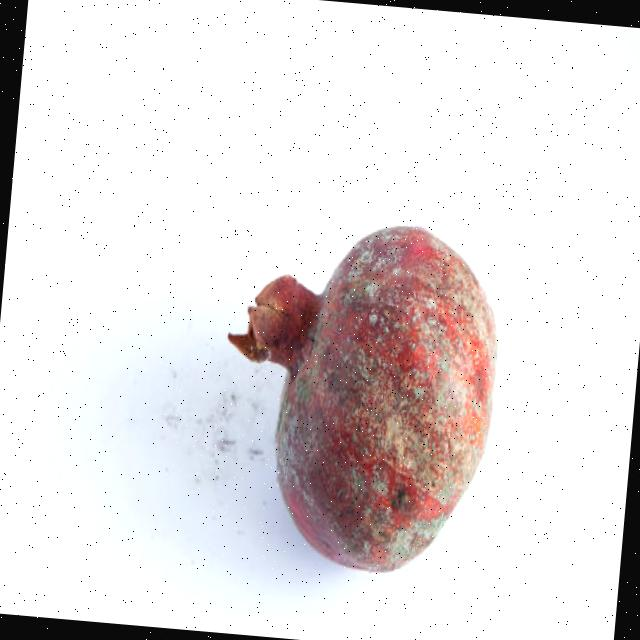Rotten: (207, 206, 506, 581)
